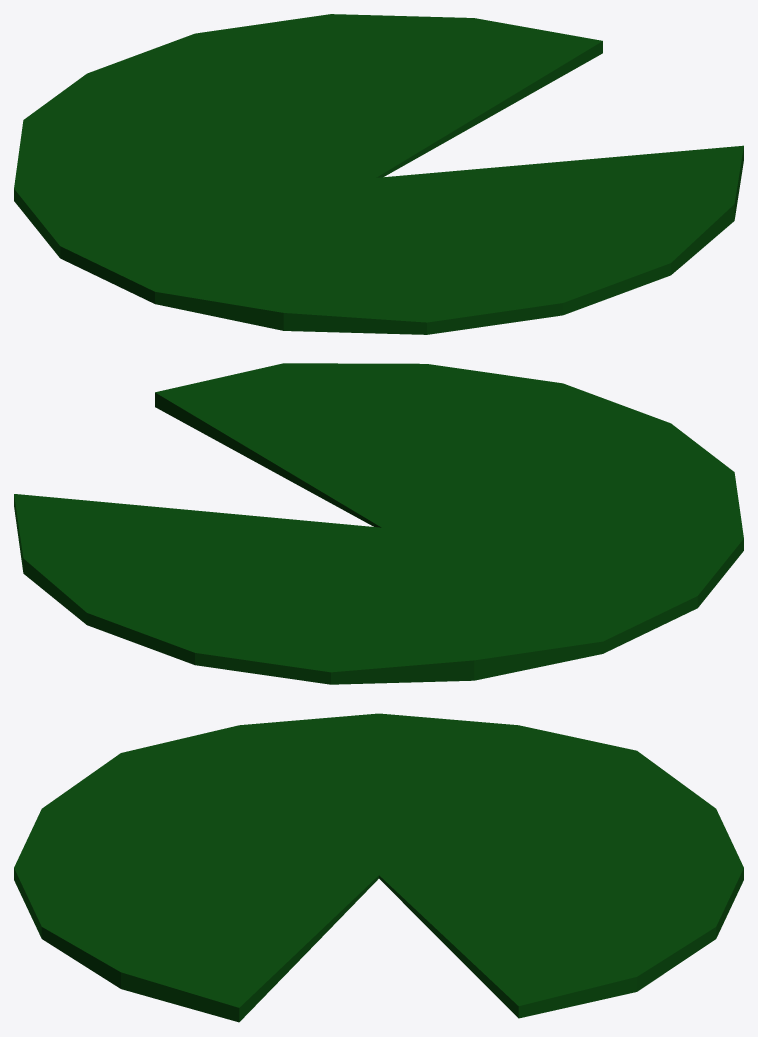
File: Pond_lily.fbx
The picture shows the model from 3 angles, top to bottom: view 1: azimuth 30°, elevation 25°; view 2: azimuth 150°, elevation 25°; view 3: azimuth 270°, elevation 25°; orthographic projection.
Visible parts, largest first — view 1: Cylinder; view 2: Cylinder; view 3: Cylinder.
Boxes of the visible parts, x1,y1,x2,y2 form: Cylinder: [14, 14, 743, 334]; Cylinder: [14, 363, 743, 684]; Cylinder: [14, 713, 743, 1022].
Size of the model in its own units: 192 by 6.97 by 200.
